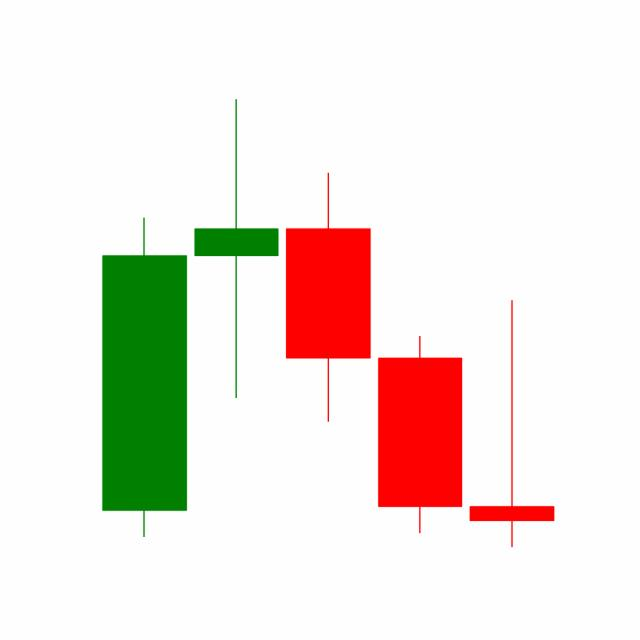Marubozu: (373, 334, 467, 536)
